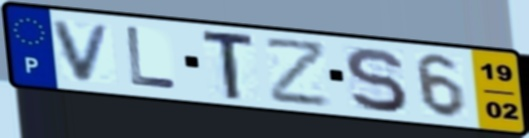6: (413, 52, 470, 121)
L: (123, 24, 180, 92)
S: (341, 45, 411, 115)
T: (200, 30, 258, 102)
V: (49, 18, 116, 84)
Z: (262, 37, 333, 109)
